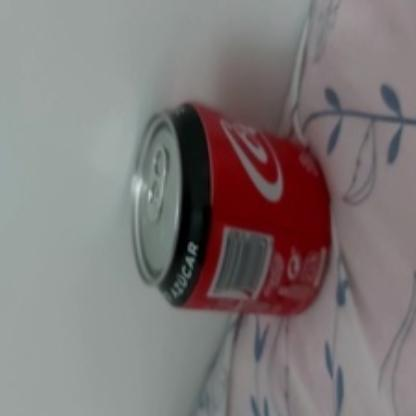Can: (129, 100, 331, 318)
